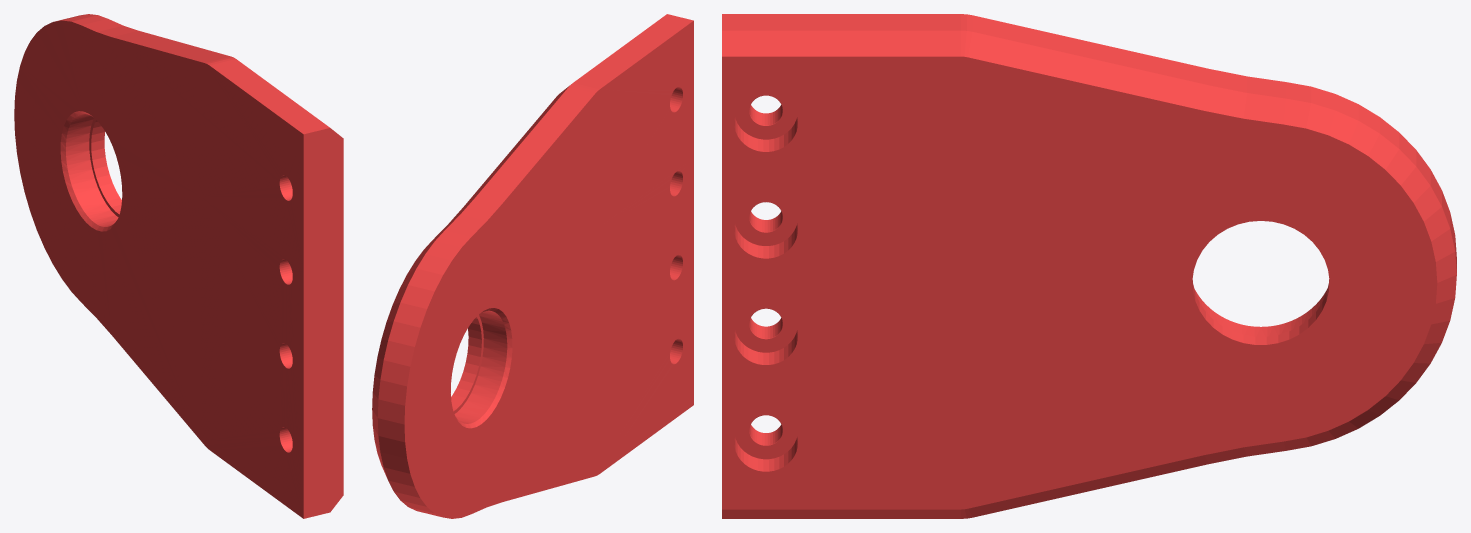
File: swerve_wheel_wheel_cover_visual_2_vis_3.dae
3 renders of one model, left to right at view 1: azimuth 30°, elevation 25°; view 2: azimuth 150°, elevation 25°; view 3: azimuth 270°, elevation 25°, orthographic. The views are drawn at different scales.
Visible parts, largest first — view 1: Node_0x7f274d8fda00; view 2: Node_0x7f274d8fda00; view 3: Node_0x7f274d8fda00.
Part boxes in pixels (x1,y1,x2,y2): Node_0x7f274d8fda00: (14, 14, 343, 518); Node_0x7f274d8fda00: (372, 14, 693, 518); Node_0x7f274d8fda00: (722, 14, 1456, 518).
Size of the model in its own units: 0.00563 by 0.0516 by 0.0703.
